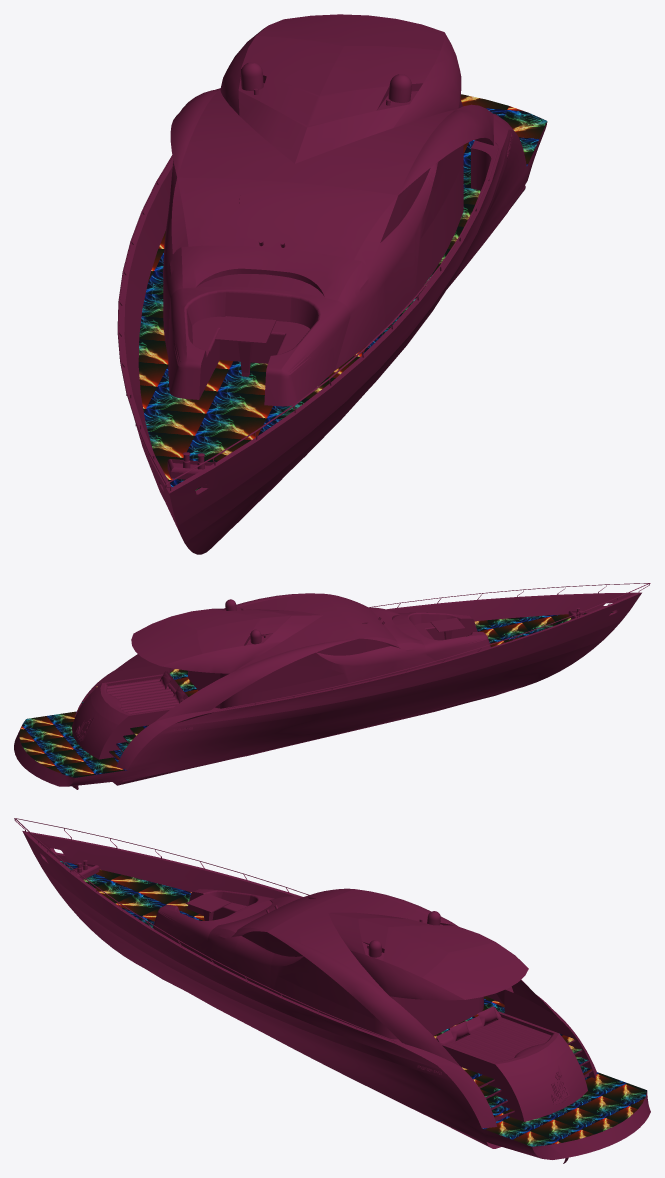
File: Mejora.obj
3 renders of one model, top to bottom at view 1: azimuth 30°, elevation 25°; view 2: azimuth 150°, elevation 25°; view 3: azimuth 270°, elevation 25°, orthographic. The views are drawn at different scales.
Parts seen in each view (by area): view 1: Barco; view 2: Barco; view 3: Barco.
Boxes of the visible parts, x1,y1,x2,y2 form: Barco: (117, 14, 547, 554); Barco: (14, 583, 650, 789); Barco: (14, 818, 650, 1163).
Bounding box in the file's own units: 752 × 264 × 851.
1 material, 1 textured.
